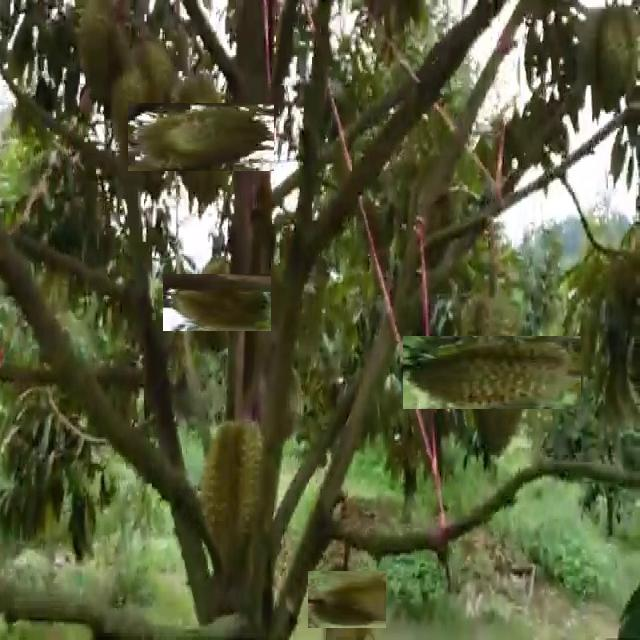durian: (428, 310, 555, 435), (197, 408, 266, 580), (148, 83, 255, 191), (175, 260, 259, 344), (578, 4, 639, 117), (313, 566, 381, 634)
